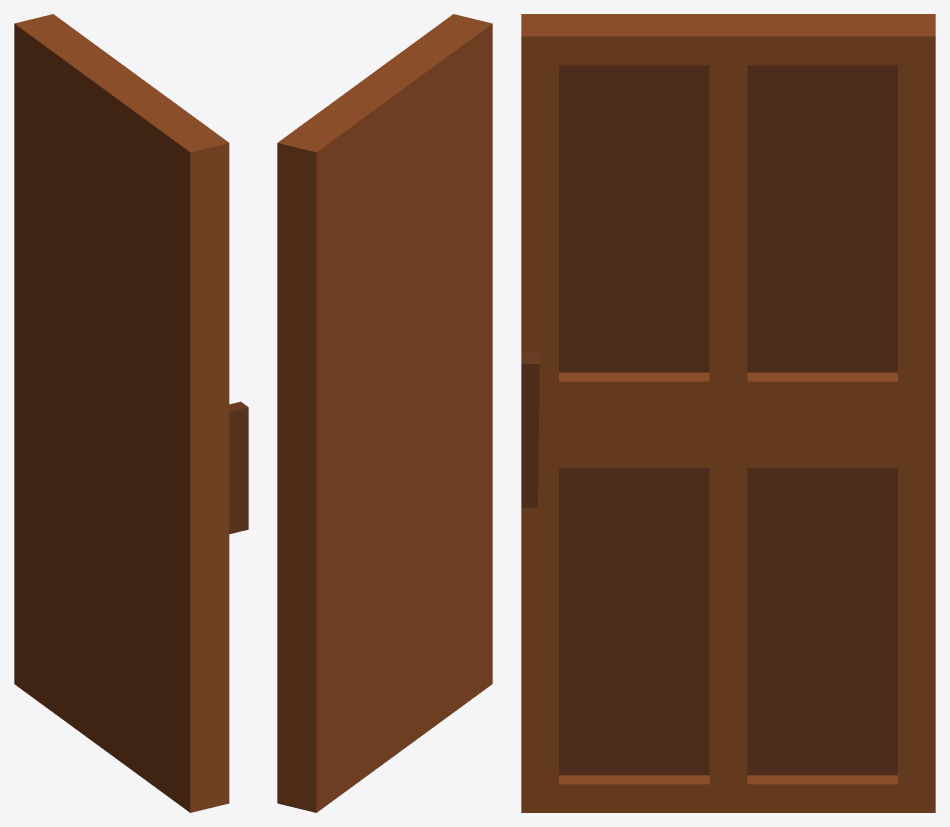
The model's file is DoorRight.fbx.
The picture shows the model from 3 angles, left to right: view 1: azimuth 30°, elevation 25°; view 2: azimuth 150°, elevation 25°; view 3: azimuth 270°, elevation 25°; orthographic projection. The views are drawn at different scales.
Parts seen in each view (by area): view 1: JoinedDoorRight; view 2: JoinedDoorRight; view 3: JoinedDoorRight.
Boxes of the visible parts, x1,y1,x2,y2 form: JoinedDoorRight: [14, 14, 248, 812]; JoinedDoorRight: [277, 14, 492, 812]; JoinedDoorRight: [521, 14, 935, 812].
Bounding box in the file's own units: 44.78 × 485 × 234.
